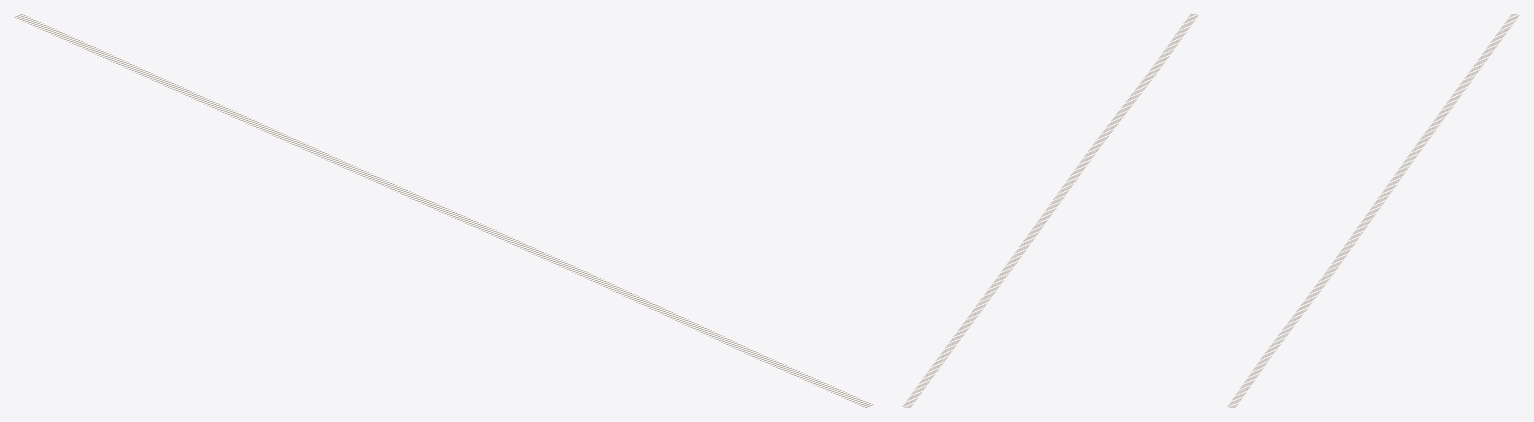
File: c_1629_17817_rail_sleeper.glb
3 renders of one model, left to right at view 1: azimuth 30°, elevation 25°; view 2: azimuth 150°, elevation 25°; view 3: azimuth 330°, elevation 25°, orthographic. The views are drawn at different scales.
Visible parts, largest first — view 1: geometry_0; view 2: geometry_0; view 3: geometry_0.
Part boxes in pixels (x1,y1,x2,y2): geometry_0: (14, 14, 873, 407); geometry_0: (902, 14, 1198, 407); geometry_0: (1227, 14, 1519, 407).
Bounding box in the file's own units: 60.74 × 0.8228 × 256.
